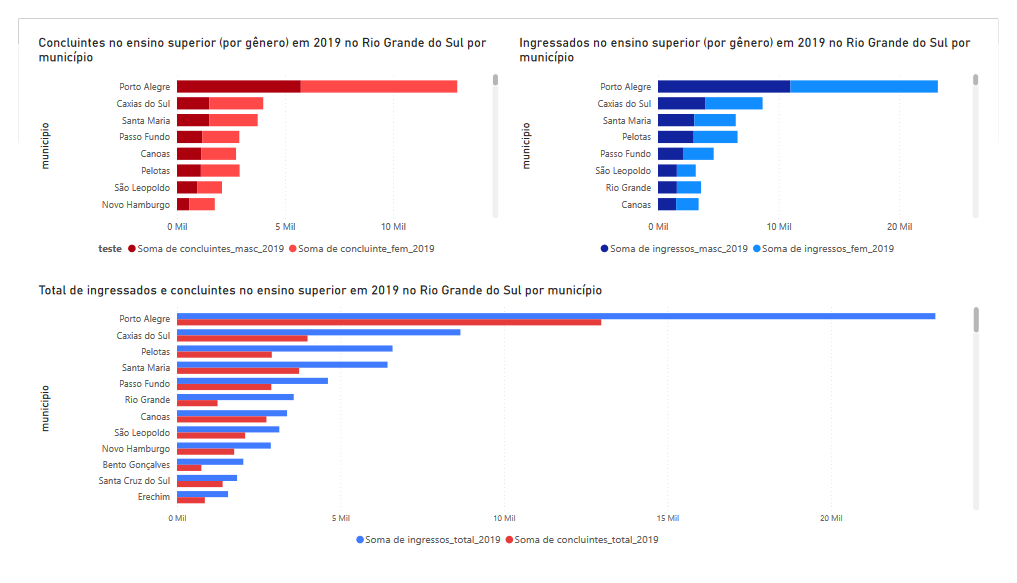

The page's visual inventory and layout, read from the dashboard file:
{"tool":"powerbi","page":{"name":"Página 1","canvas":[1280,720],"ordinal":0},"visuals":[{"type":"clusteredBarChart","title":"Total de ingressados e concluintes no ensino superior em 2019 no Rio Grande do Sul por município","fields":{"Category":["municipios.Município"],"Y":["Sum(ingressosTotal.ingressos_total_2019)","Sum(concluintesTotal.concluintes_total_2019)"]},"box":[21.1,344.4,1238.9,355.6],"z":0},{"type":"barChart","title":"Ingressados no ensino superior (por gênero) em 2019 no Rio Grande do Sul por município","fields":{"Category":["municipios.Município"],"Y":["Sum(ingressosMasc.ingressos_masc_2019)","Sum(ingressosFem.ingressos_fem_2019)"]},"box":[650,21.8,610,298.2],"z":1000},{"type":"barChart","title":"Concluintes no ensino superior (por gênero) em 2019 no Rio Grande do Sul por município","fields":{"Category":["municipios.Município"],"Y":["Sum(concluintesMasc.concluintes_masc_2019)","Sum(concluintesFem.concluinte_fem_2019)"]},"box":[20.9,21.8,610.9,298.2],"z":2000}]}

Visuals, with their boxes in screenshot pixels (x1, y1, x2, y2), scaled from the page's 1280x720 canvas onto the 1017x583 screenshot:
"Total de ingressados e concluintes no ensino superior em 2019 no Rio Grande do Sul por município" clusteredBarChart: rect(17, 279, 1001, 567)
"Ingressados no ensino superior (por gênero) em 2019 no Rio Grande do Sul por município" barChart: rect(516, 18, 1001, 259)
"Concluintes no ensino superior (por gênero) em 2019 no Rio Grande do Sul por município" barChart: rect(17, 18, 502, 259)
